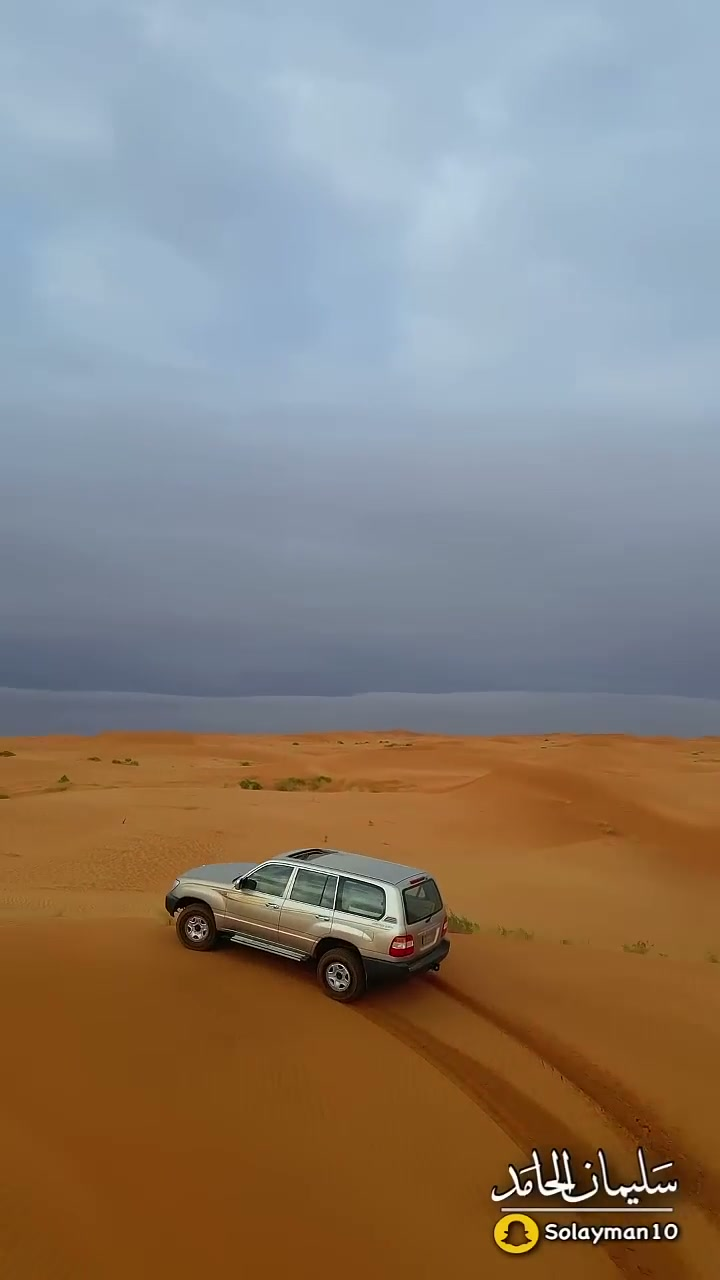vehicle_track: (433, 978, 719, 1229), (358, 1006, 582, 1151)
